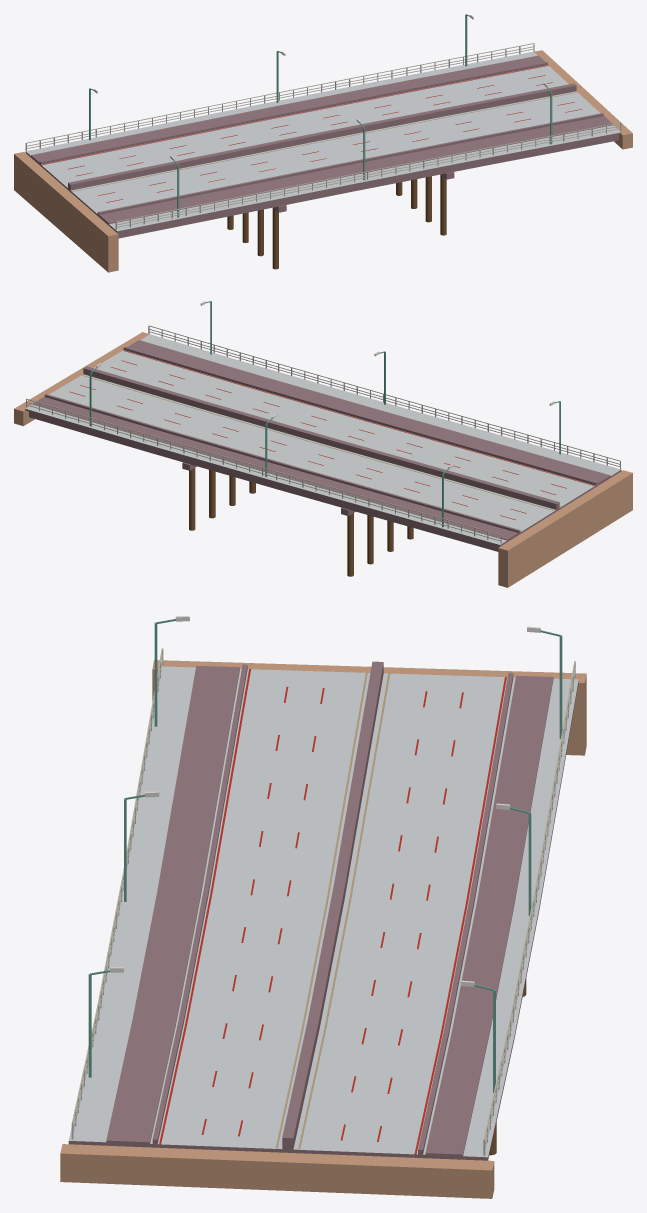
The model's file is br_w85_fox_drive.gltf.
3 views of the same model, one above another, from view 1: azimuth 30°, elevation 25°; view 2: azimuth 150°, elevation 25°; view 3: azimuth 270°, elevation 25° (orthographic). The views are drawn at different scales.
Parts seen in each view (by area): view 1: br_w85_fox_drive; view 2: br_w85_fox_drive; view 3: br_w85_fox_drive.
Boxes of the visible parts, x1=… form: br_w85_fox_drive: x1=14, y1=14, x2=632, y2=272; br_w85_fox_drive: x1=14, y1=301, x2=632, y2=587; br_w85_fox_drive: x1=60, y1=616, x2=586, y2=1198.
Bounding box in the file's own units: 95.25 × 23.59 × 41.86.
